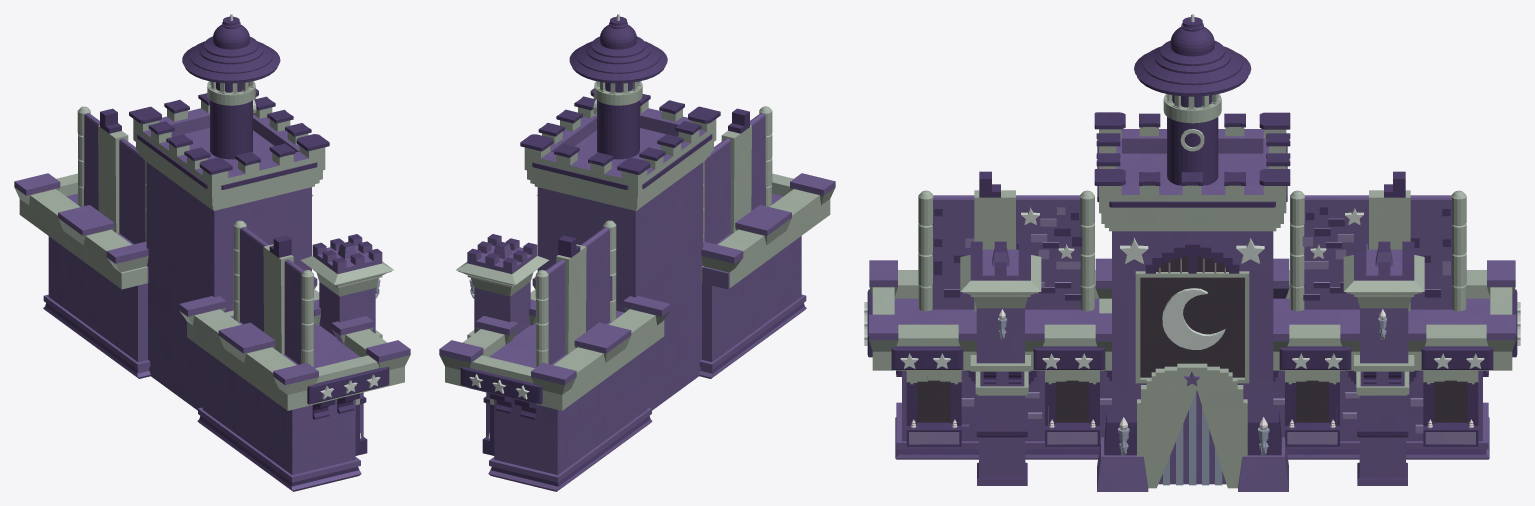
File: Castle.fbx
The picture shows the model from 3 angles, left to right: view 1: azimuth 30°, elevation 25°; view 2: azimuth 150°, elevation 25°; view 3: azimuth 270°, elevation 25°; orthographic projection. The views are drawn at different scales.
Parts seen in each view (by area): view 1: CASTLE; view 2: CASTLE; view 3: CASTLE.
Boxes of the visible parts, x1,y1,x2,y2 form: CASTLE: (14,14,410,491); CASTLE: (439,14,835,491); CASTLE: (864,14,1520,491).
Bounding box in the file's own units: 32.84 × 75.68 × 101.
